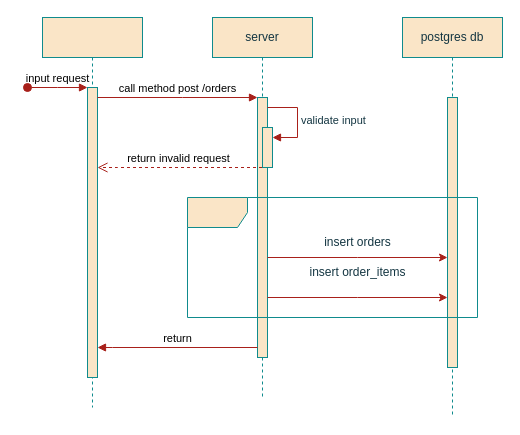
The diagram is 520 pixels wide and 435 high, and some of its shapes have lost their labels. The box of each missing label's shape, as (x1, y1, x2, y2) in pixels:
client: (42, 16, 142, 408)
go routine , tx , context: (186, 196, 478, 318)
